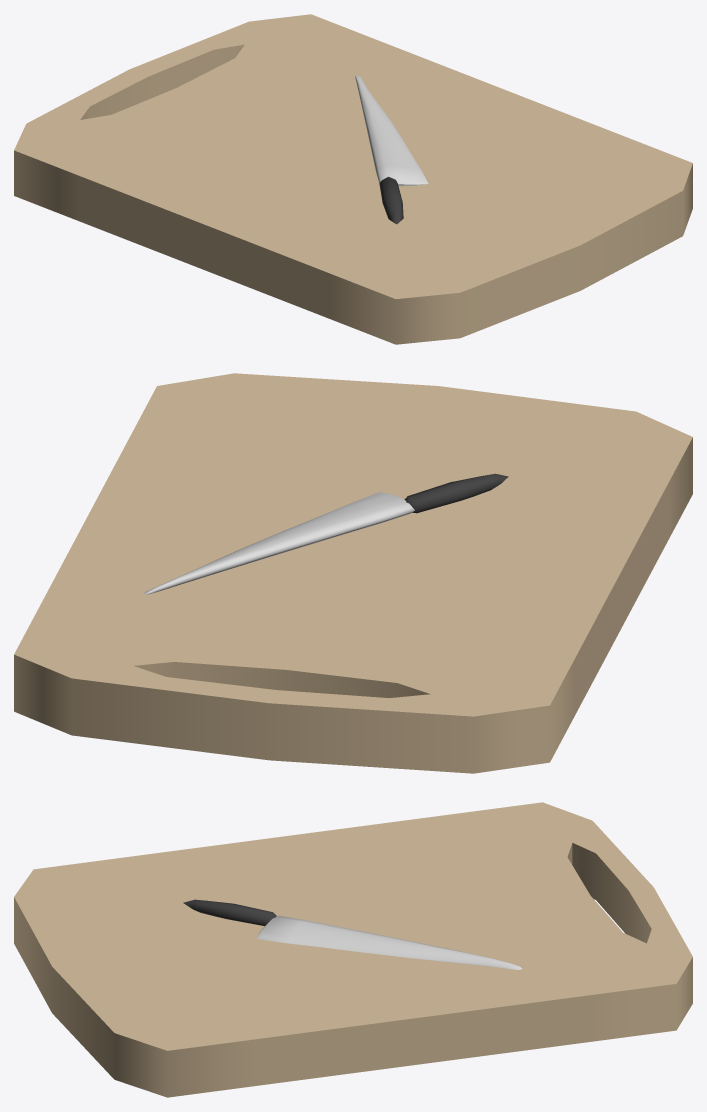
Rendered from Planche_A_Decouper.fbx.
The picture shows the model from 3 angles, top to bottom: view 1: azimuth 30°, elevation 25°; view 2: azimuth 150°, elevation 25°; view 3: azimuth 270°, elevation 25°; orthographic projection. The views are drawn at different scales.
Parts seen in each view (by area): view 1: Cube_1, Lame, Poignee; view 2: Cube_1, Lame, Poignee; view 3: Cube_1, Lame, Poignee.
Boxes of the visible parts, x1,y1,x2,y2 form: Cube_1: [14, 14, 692, 344]; Lame: [355, 76, 428, 186]; Poignee: [379, 176, 403, 224]; Cube_1: [14, 373, 692, 773]; Lame: [144, 492, 414, 594]; Poignee: [404, 473, 508, 513]; Cube_1: [14, 802, 692, 1097]; Lame: [257, 915, 522, 969]; Poignee: [183, 899, 276, 925].
Bounding box in the file's own units: 114 × 12.42 × 132.
